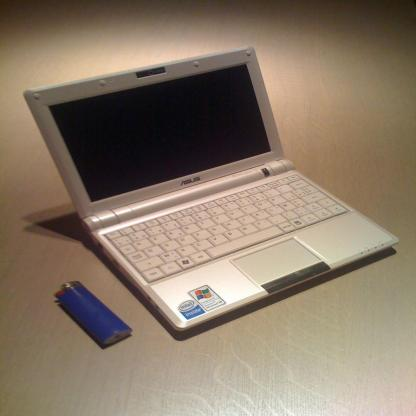board: (20, 45, 397, 333), (54, 280, 132, 348)
